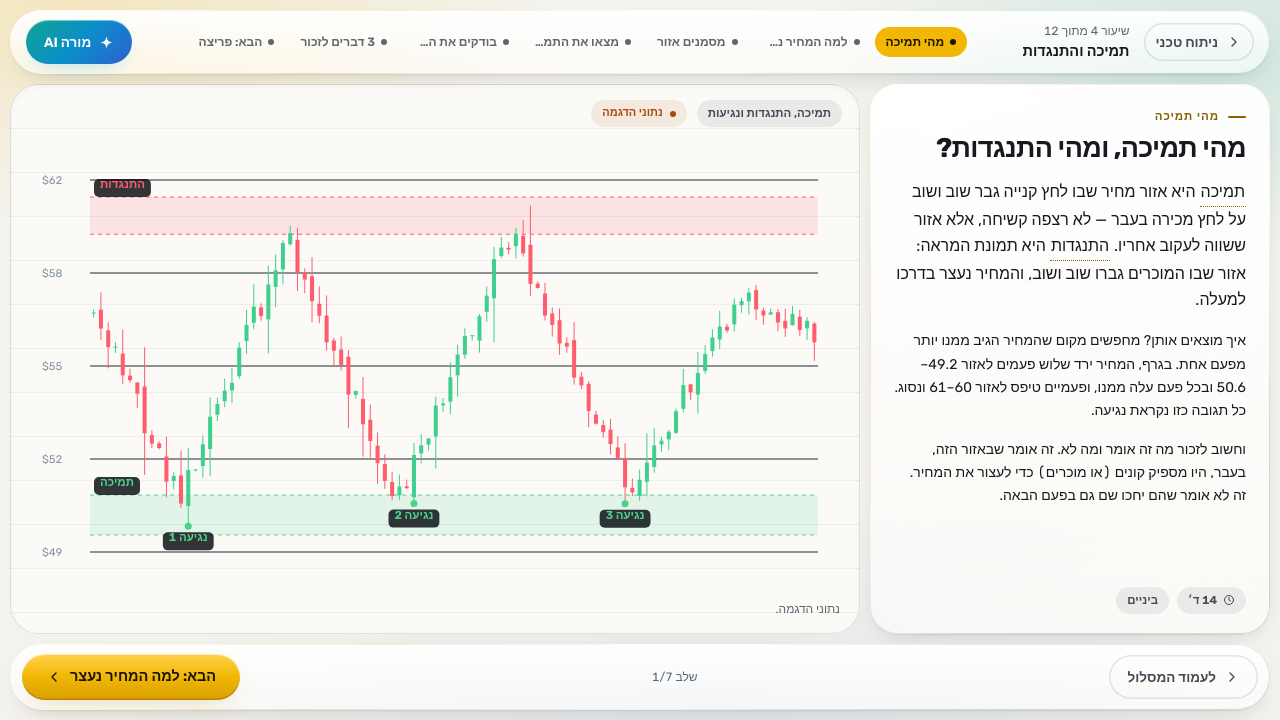
Test: the chart exercise (l1 → T4, step 4) › asks for a click on the chart and shows no answer before one
What coordinates should you click on to do the following:
click the button "מצאו את התמיכה"
I would click on:
 (583, 42)
Its box is [524,27,642,57].
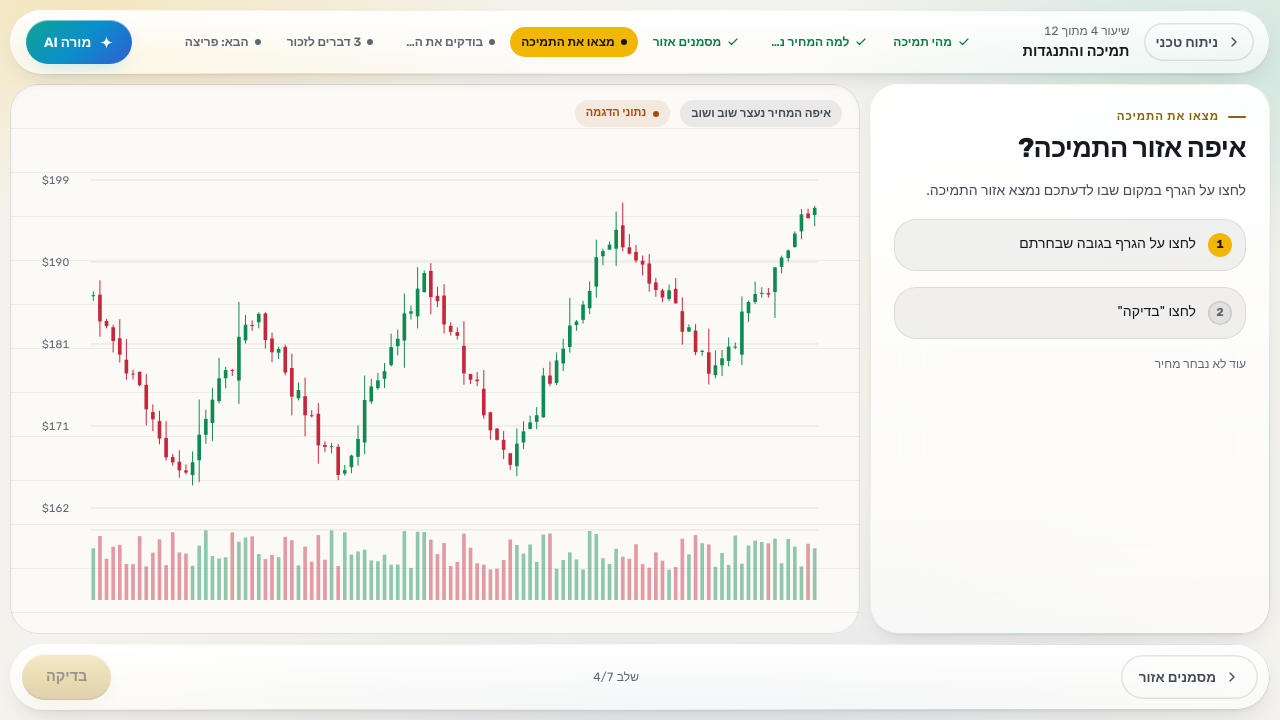
Now the text "לחצו על הגרף במקום שבו לדעתכם נמצא אזור התמיכה." is shown, box [894,180,1246,203]
